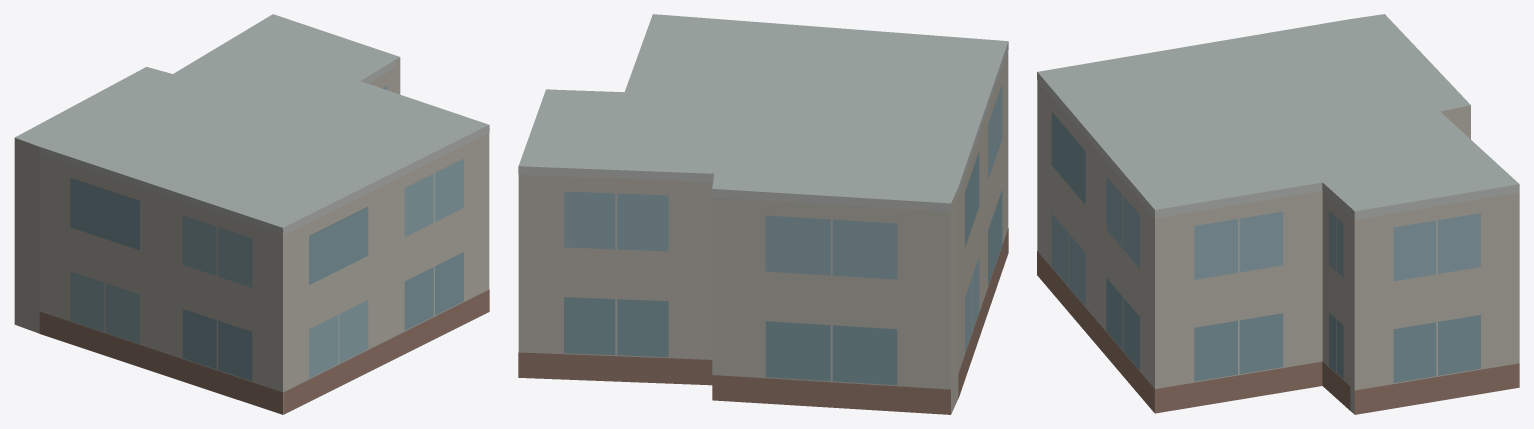
File: survey-upis-32488523.glb
3 renders of one model, left to right at view 1: azimuth 30°, elevation 25°; view 2: azimuth 150°, elevation 25°; view 3: azimuth 270°, elevation 25°, orthographic. The views are drawn at different scales.
Parts seen in each view (by area): view 1: survey-upis-32488523.tmp; view 2: survey-upis-32488523.tmp; view 3: survey-upis-32488523.tmp.
Boxes of the visible parts, bbox=[...] form: survey-upis-32488523.tmp: bbox=[14, 14, 489, 414]; survey-upis-32488523.tmp: bbox=[518, 14, 1008, 414]; survey-upis-32488523.tmp: bbox=[1037, 14, 1519, 414].
Size of the model in its own units: 12.71 by 6.1 by 13.12.
